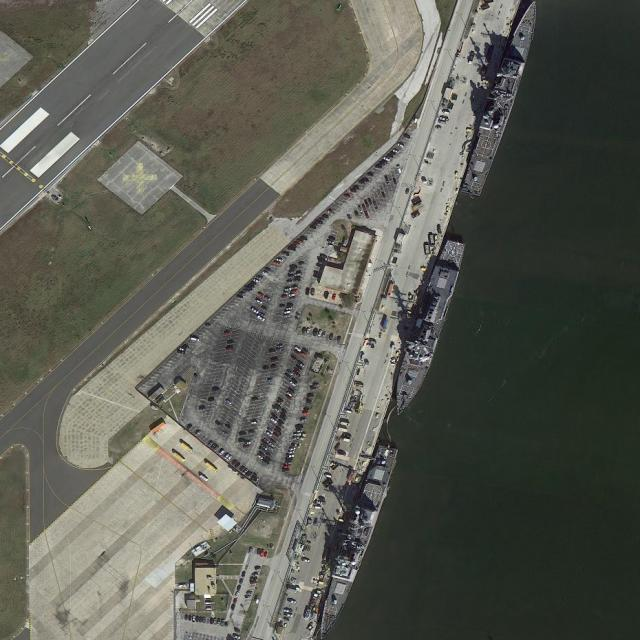Cruiser: (460, 1, 545, 196), (314, 443, 398, 639)
Destroyer: (387, 234, 467, 420)
